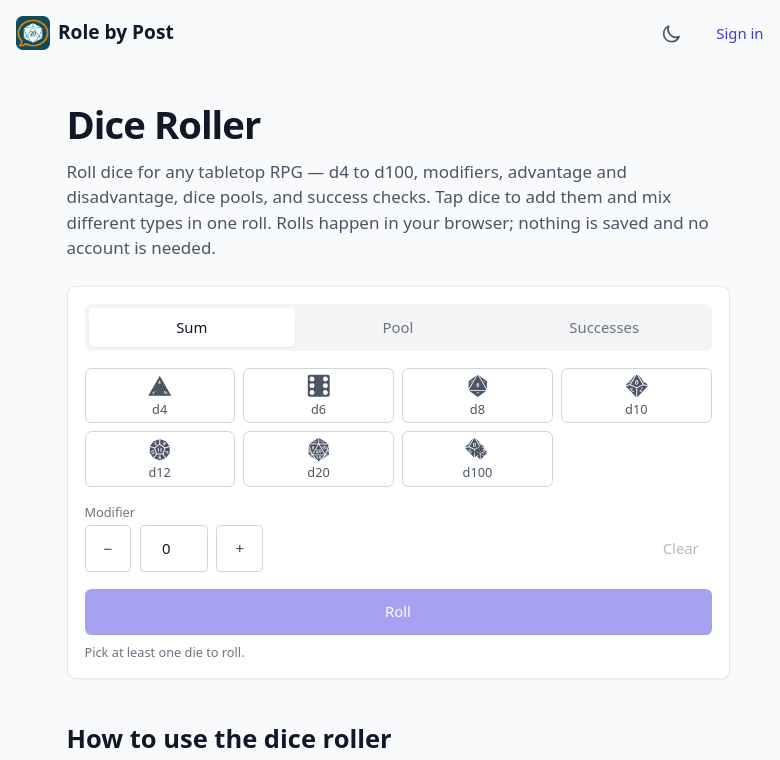
Test: DiceRollerPage › adds the modifier to the notation
Click the button "d20" at point(319, 459), box [243,431,394,486]
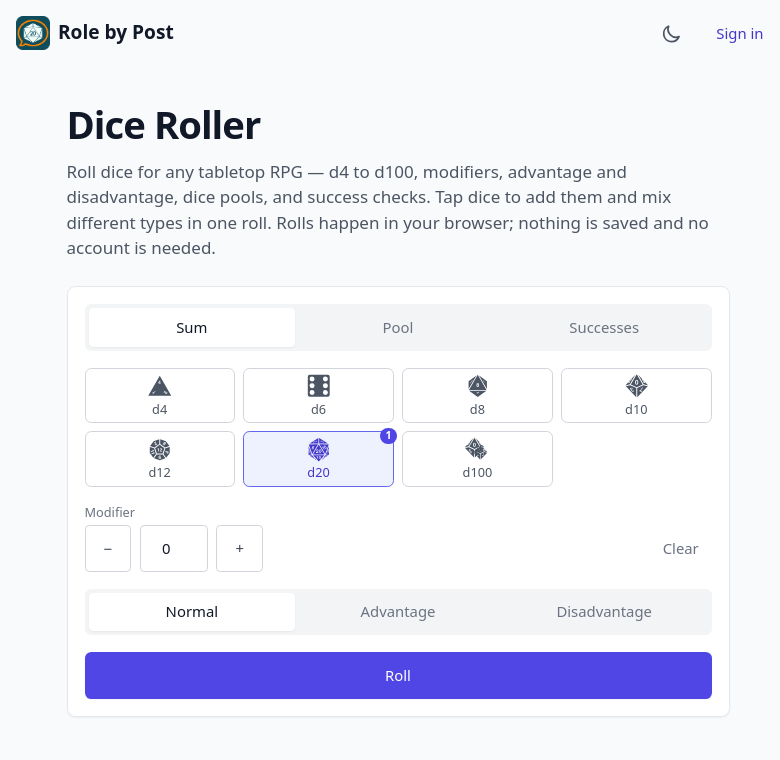
Click the button named "Increase modifier" at point(240, 548), box [216,525,263,572]
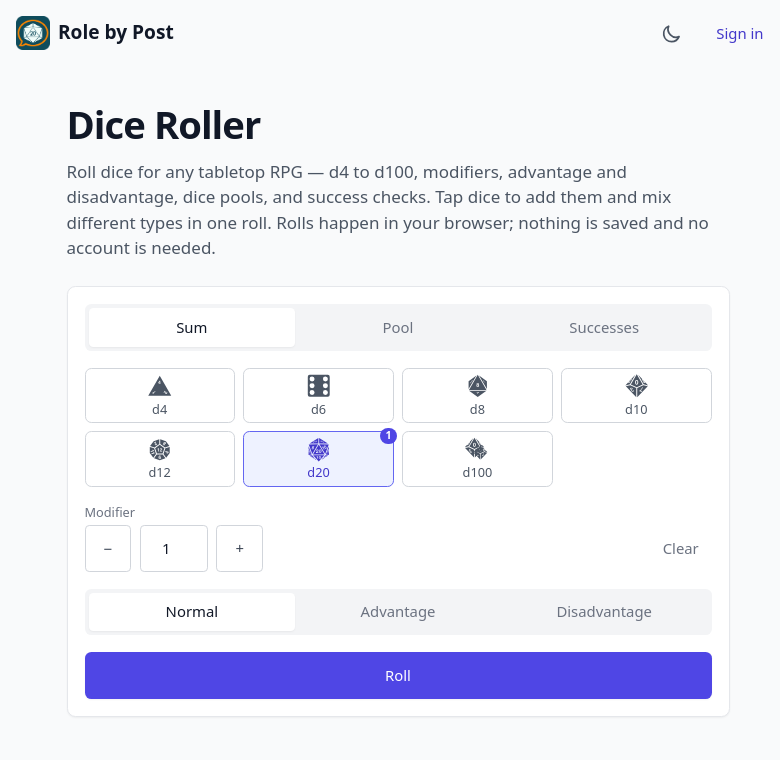
Click the button "Roll" at point(398, 676), box [84,652,712,699]
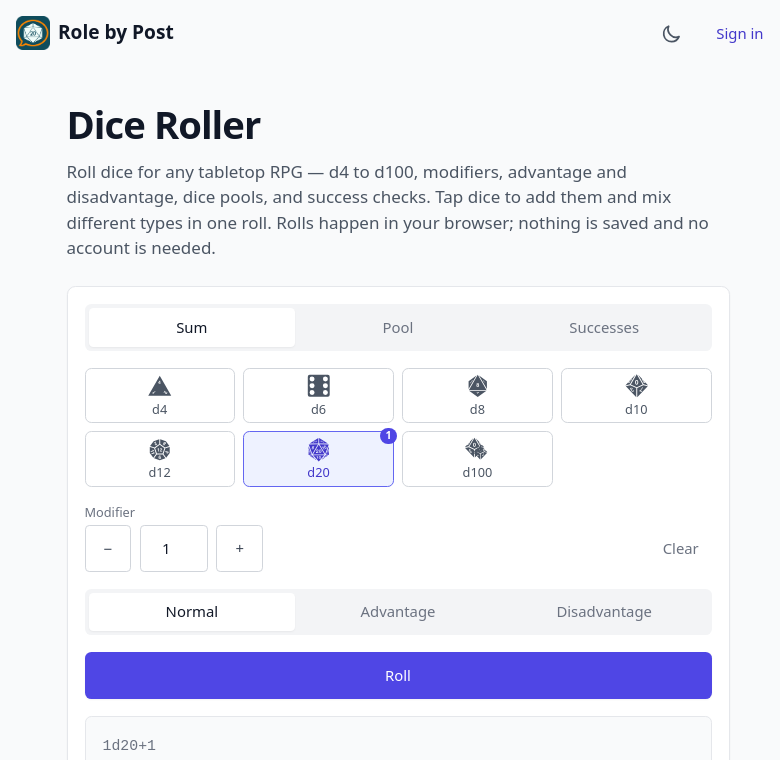
Now the text "1d20+1" is shown, box [102,738,156,754]
